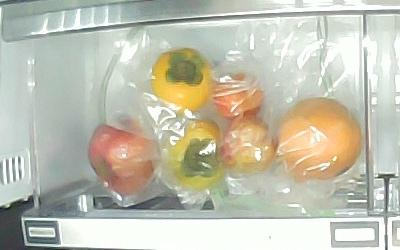apple_vinyl: (88, 118, 159, 198)
grapefruit_vinyl: (279, 98, 362, 182)
persimmon_vinyl: (150, 48, 215, 113), (167, 120, 225, 192)
prune_vinyl: (221, 115, 278, 174), (215, 73, 265, 122)
